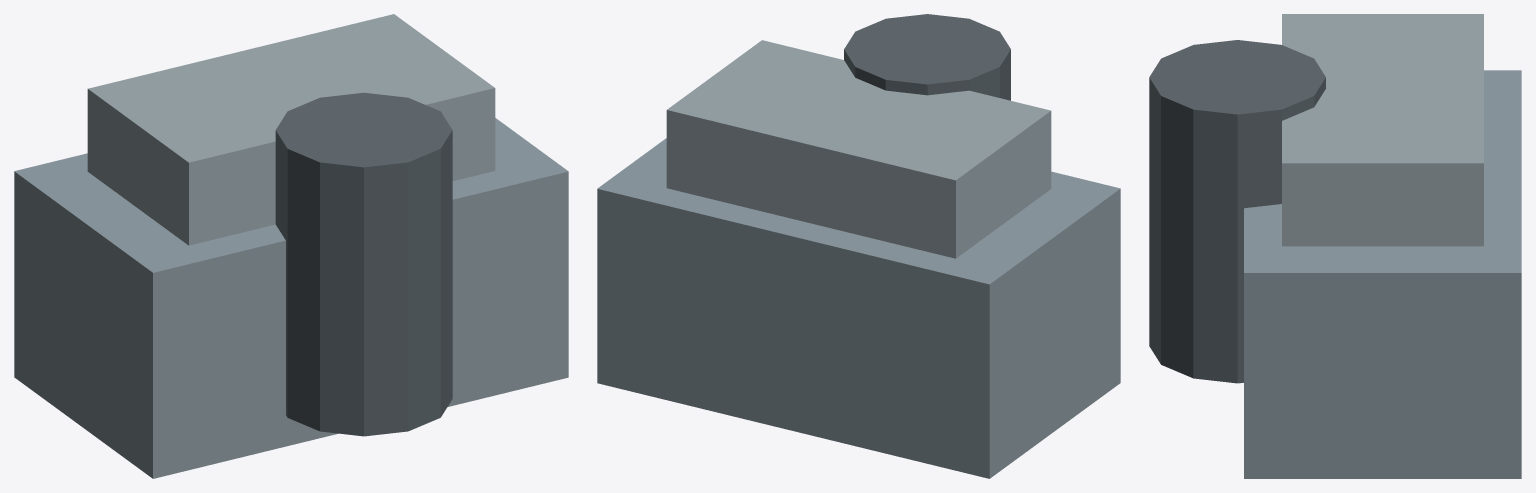
File: machine_lod0.glb
3 renders of one model, left to right at view 1: azimuth 30°, elevation 25°; view 2: azimuth 150°, elevation 25°; view 3: azimuth 270°, elevation 25°, orthographic. The views are drawn at different scales.
Visible parts, largest first — view 1: base, wheel, top; view 2: base, top, wheel; view 3: base, top, wheel.
Part boxes in pixels (x1=…): base: x1=14, y1=118, x2=568, y2=478; wheel: x1=275, y1=92, x2=452, y2=436; top: x1=87, y1=14, x2=495, y2=245; base: x1=597, y1=138, x2=1120, y2=478; top: x1=666, y1=40, x2=1051, y2=258; wheel: x1=844, y1=14, x2=1010, y2=100; base: x1=1244, y1=70, x2=1521, y2=478; top: x1=1282, y1=14, x2=1483, y2=246; wheel: x1=1149, y1=40, x2=1325, y2=383.
Bounding box in the file's own units: 3.8 × 2.62 × 2.95.
